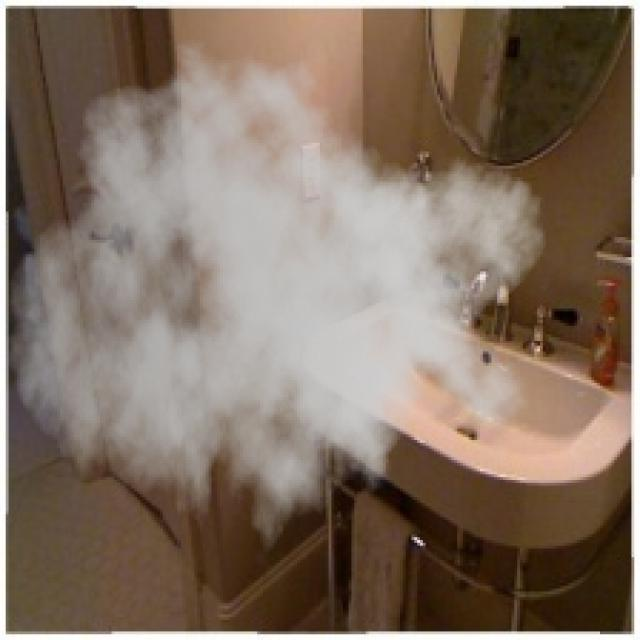smoke: (6, 26, 548, 574)
